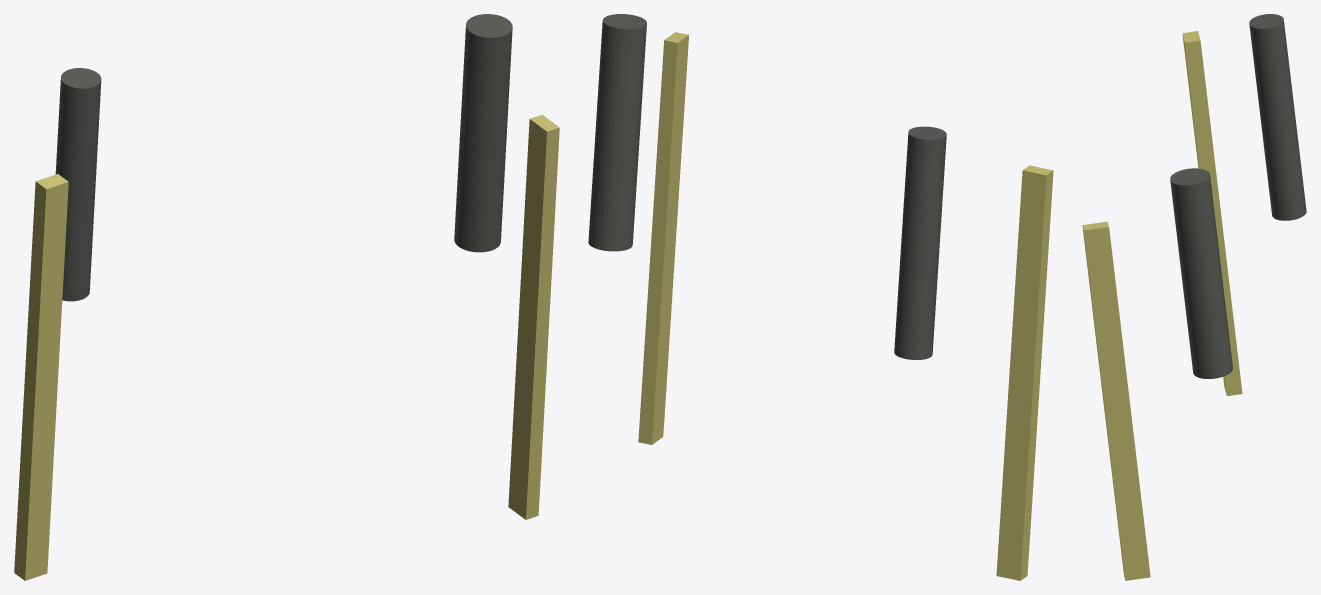
File: posts-candidate.glb
3 renders of one model, left to right at view 1: azimuth 30°, elevation 25°; view 2: azimuth 150°, elevation 25°; view 3: azimuth 270°, elevation 25°, orthographic. The views are drawn at different scales.
Visible parts, largest first — view 1: box-2, box-1, cylinder-2, cylinder-1; view 2: box-2, cylinder-2, box-1, cylinder-1; view 3: box-1, cylinder-2, cylinder-1, box-2.
Part boxes in pixels (left/top/right/bottom): box-2: left=14, top=174, right=68, bottom=580; box-1: left=508, top=114, right=559, bottom=519; cylinder-2: left=454, top=14, right=512, bottom=252; cylinder-1: left=55, top=68, right=101, bottom=301; box-2: left=996, top=165, right=1053, bottom=580; cylinder-2: left=588, top=14, right=646, bottom=251; box-1: left=638, top=32, right=688, bottom=444; cylinder-1: left=894, top=126, right=946, bottom=359; box-1: left=1082, top=221, right=1150, bottom=580; cylinder-2: left=1170, top=168, right=1232, bottom=378; cylinder-1: left=1249, top=14, right=1306, bottom=220; box-2: left=1182, top=31, right=1242, bottom=395.
Size of the model in its own units: 3.2 by 3.06 by 1.54.
